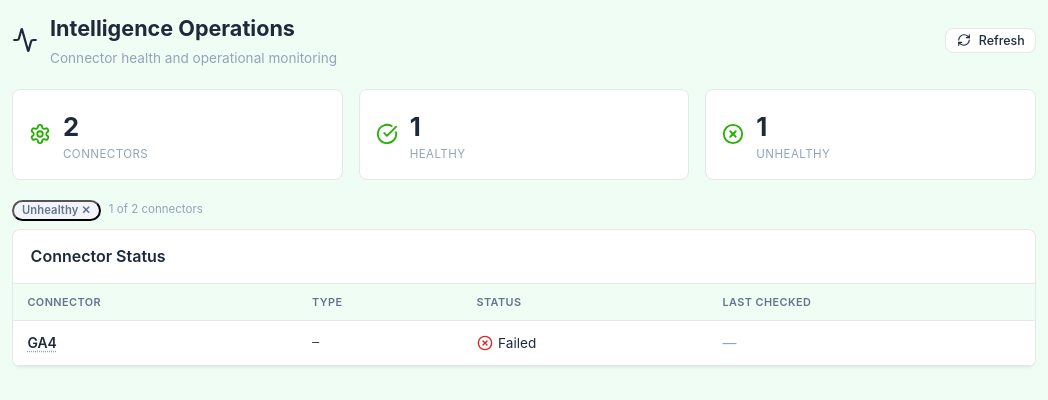
Test: intelligence tiles › operations tiles narrow the connector table via ?health=
The width and height of the screenshot is (1048, 400).
Expected: the link "GA4" is shown, [27,335,57,351]
Expected: the text "GSC" is not shown
Click the button with aria-label "clear unhealthy filter" at (56,210), box [12,200,101,221]
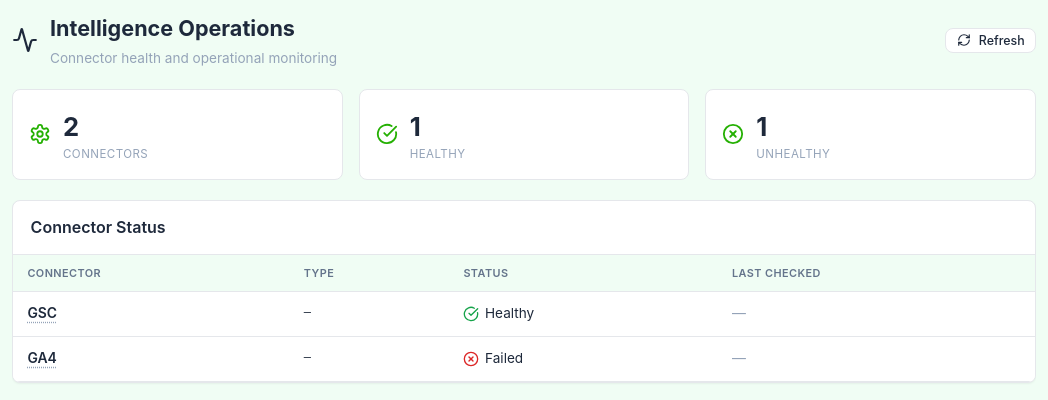
Now the link "GSC" is shown, box [27,305,57,321]
